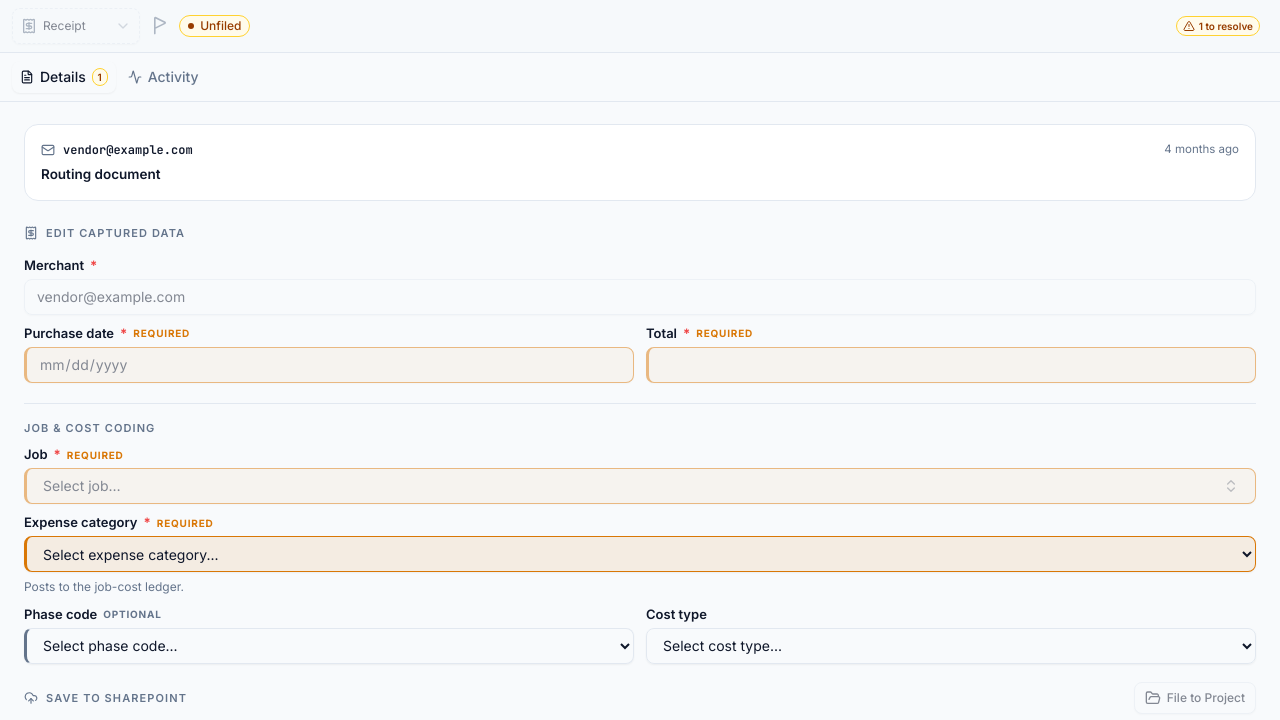
it: DocumentPanelRouteSurface › makes collaboration view-only for a discarded document
Click the tab "Activity". click: (163, 77)
box: [120, 61, 207, 93]
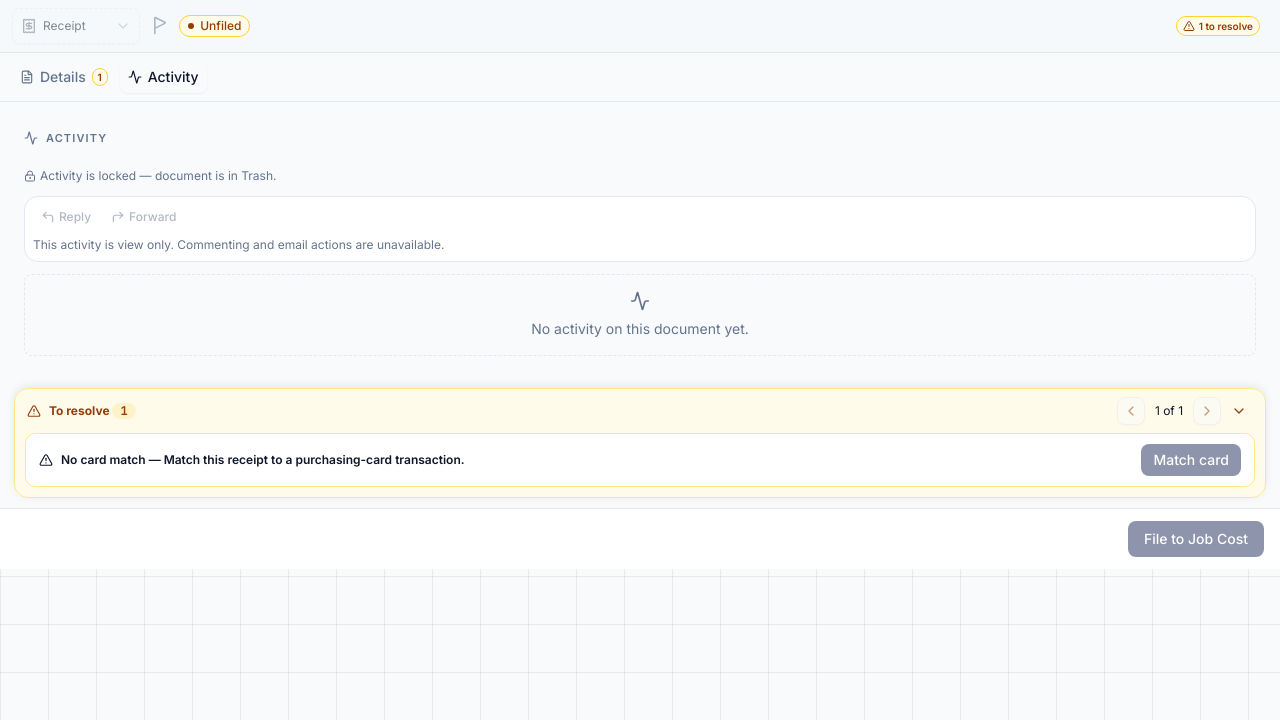
Expected: the text "Activity is locked — document is in Trash." is shown, [24, 168, 276, 184]
